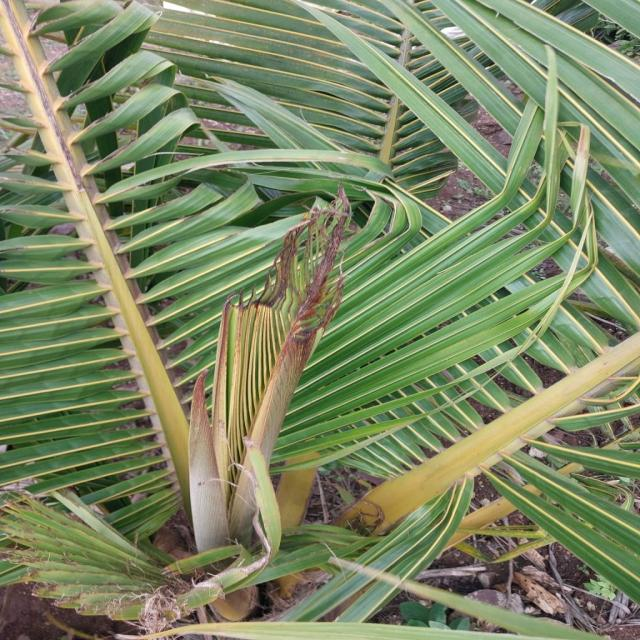bud rot: (190, 190, 350, 551)
